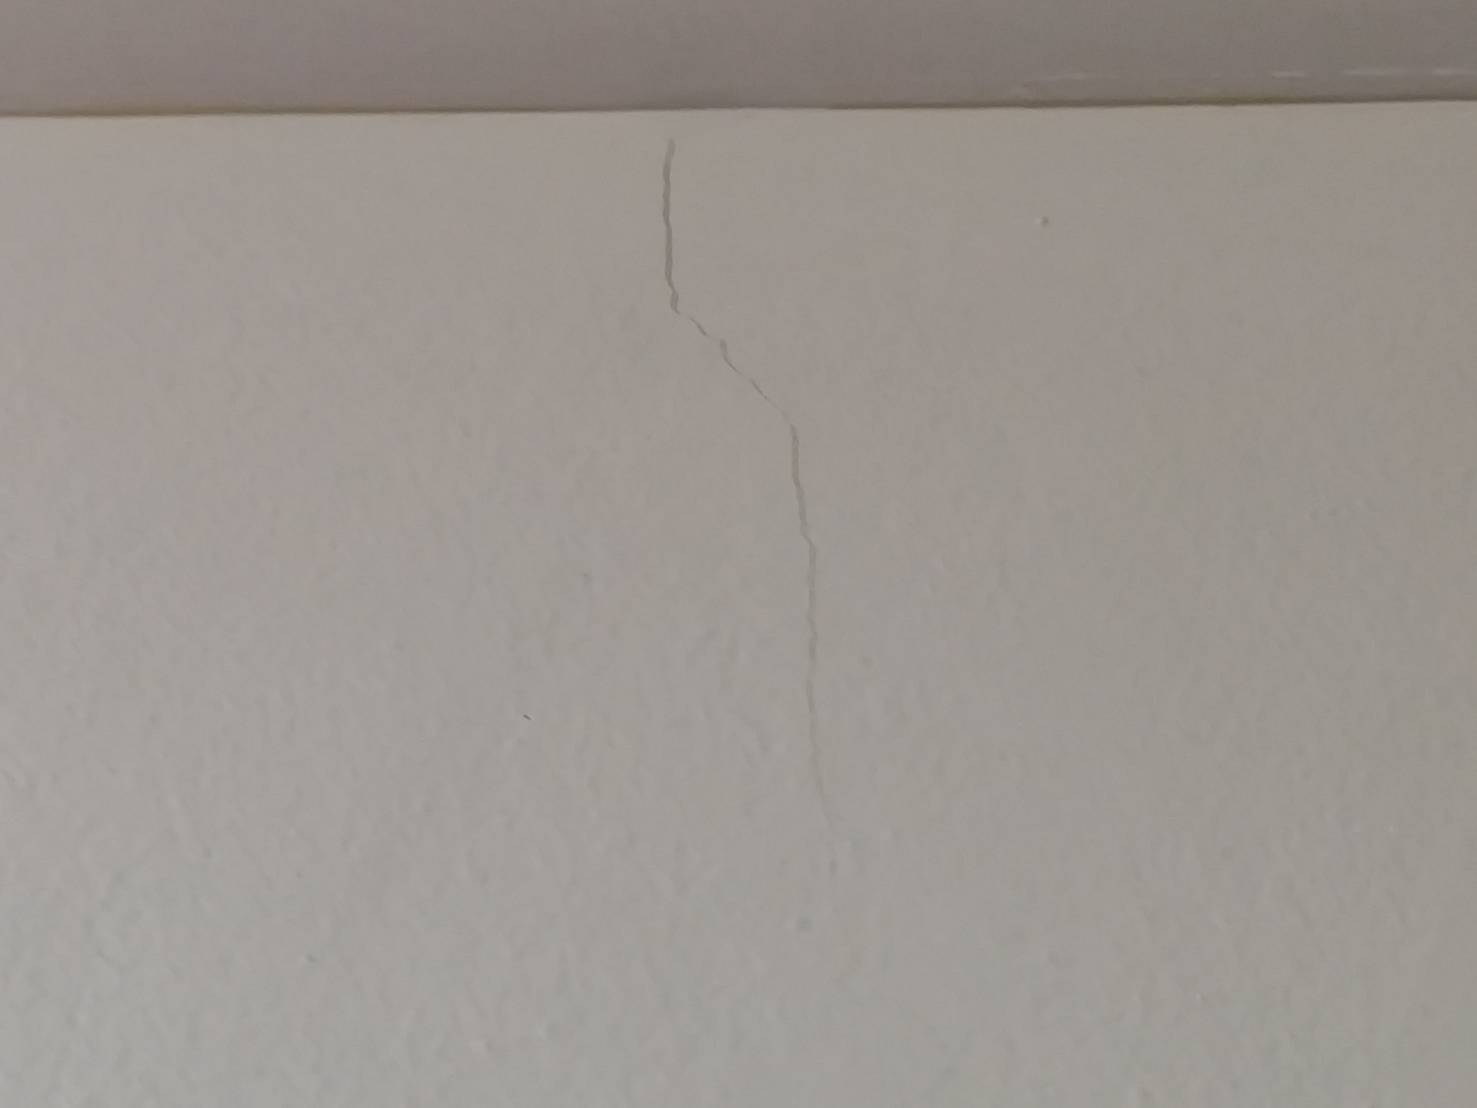Low: (630, 138, 940, 869)
